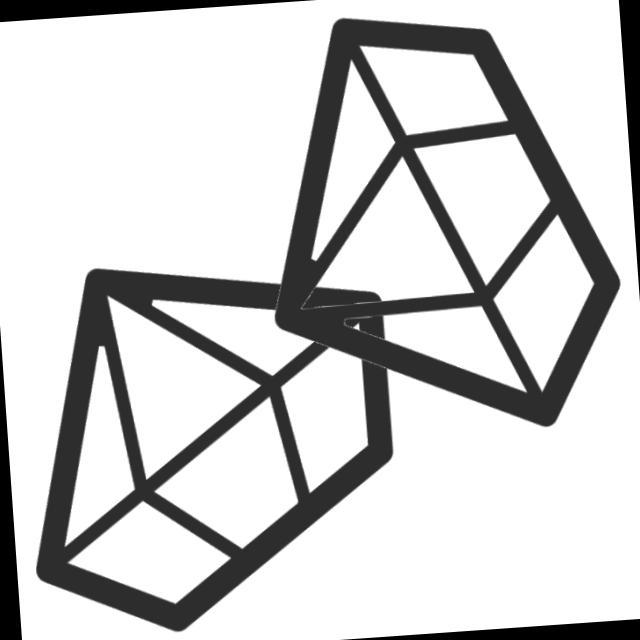diamond: (1, 235, 469, 640), (226, 1, 638, 460)
